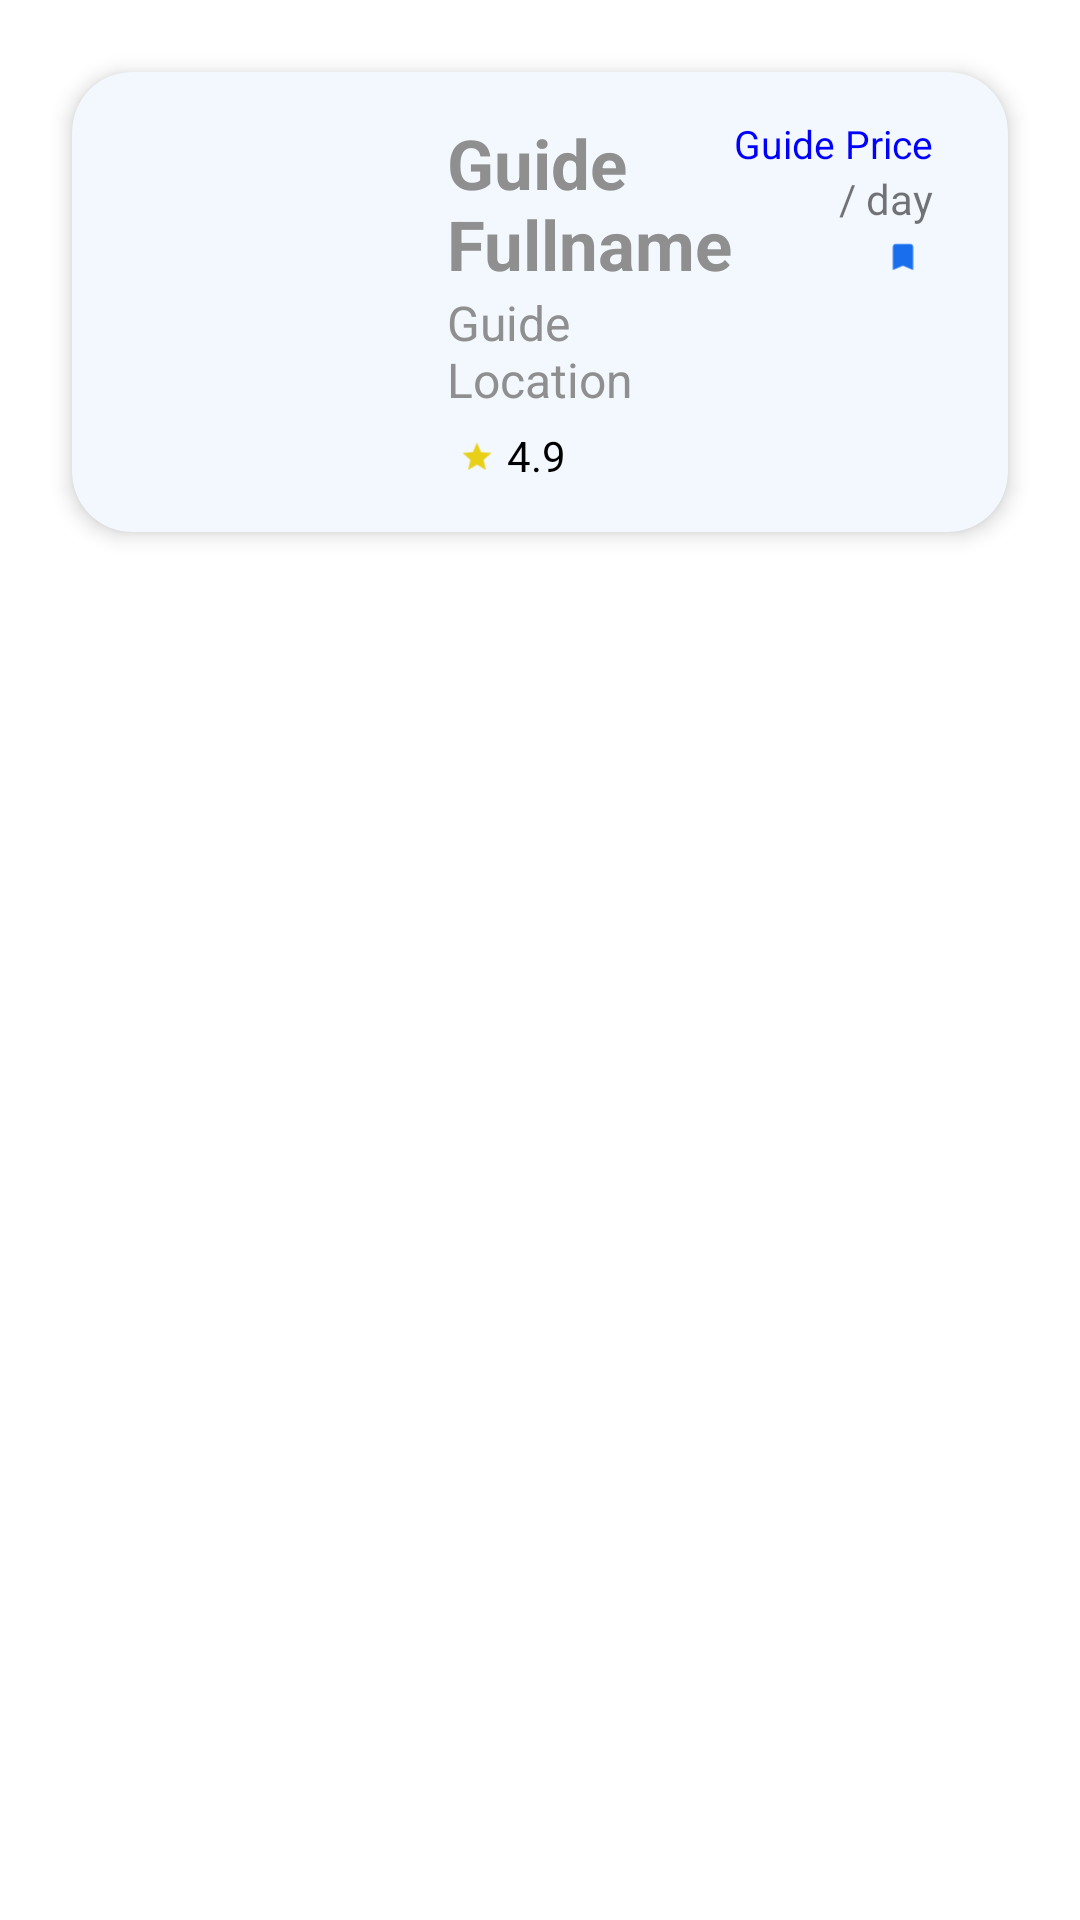

Locate icon controls on the screen. Image size 1080px×1920px, boxes as (left=x1, top=y1, right=x2, bottom=y2).
bookmark: (left=892, top=243, right=914, bottom=270)
star: (left=462, top=443, right=492, bottom=470)
